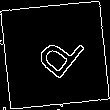P_SW: (24, 24, 86, 86)
